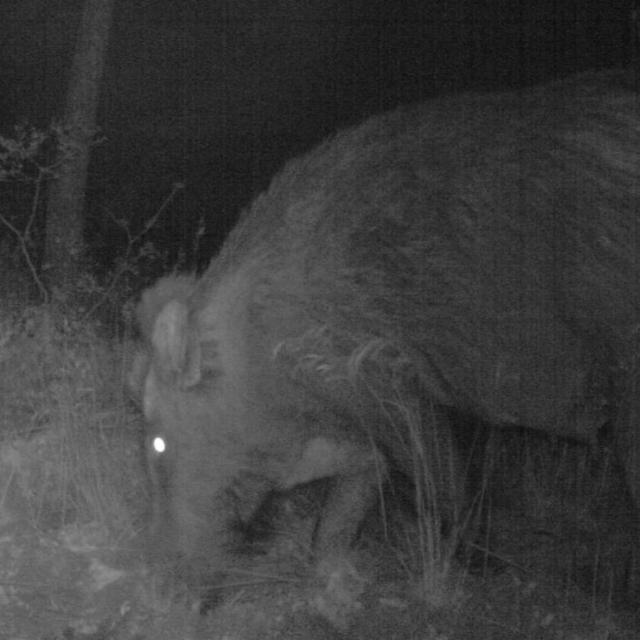pig: (100, 54, 640, 614)
